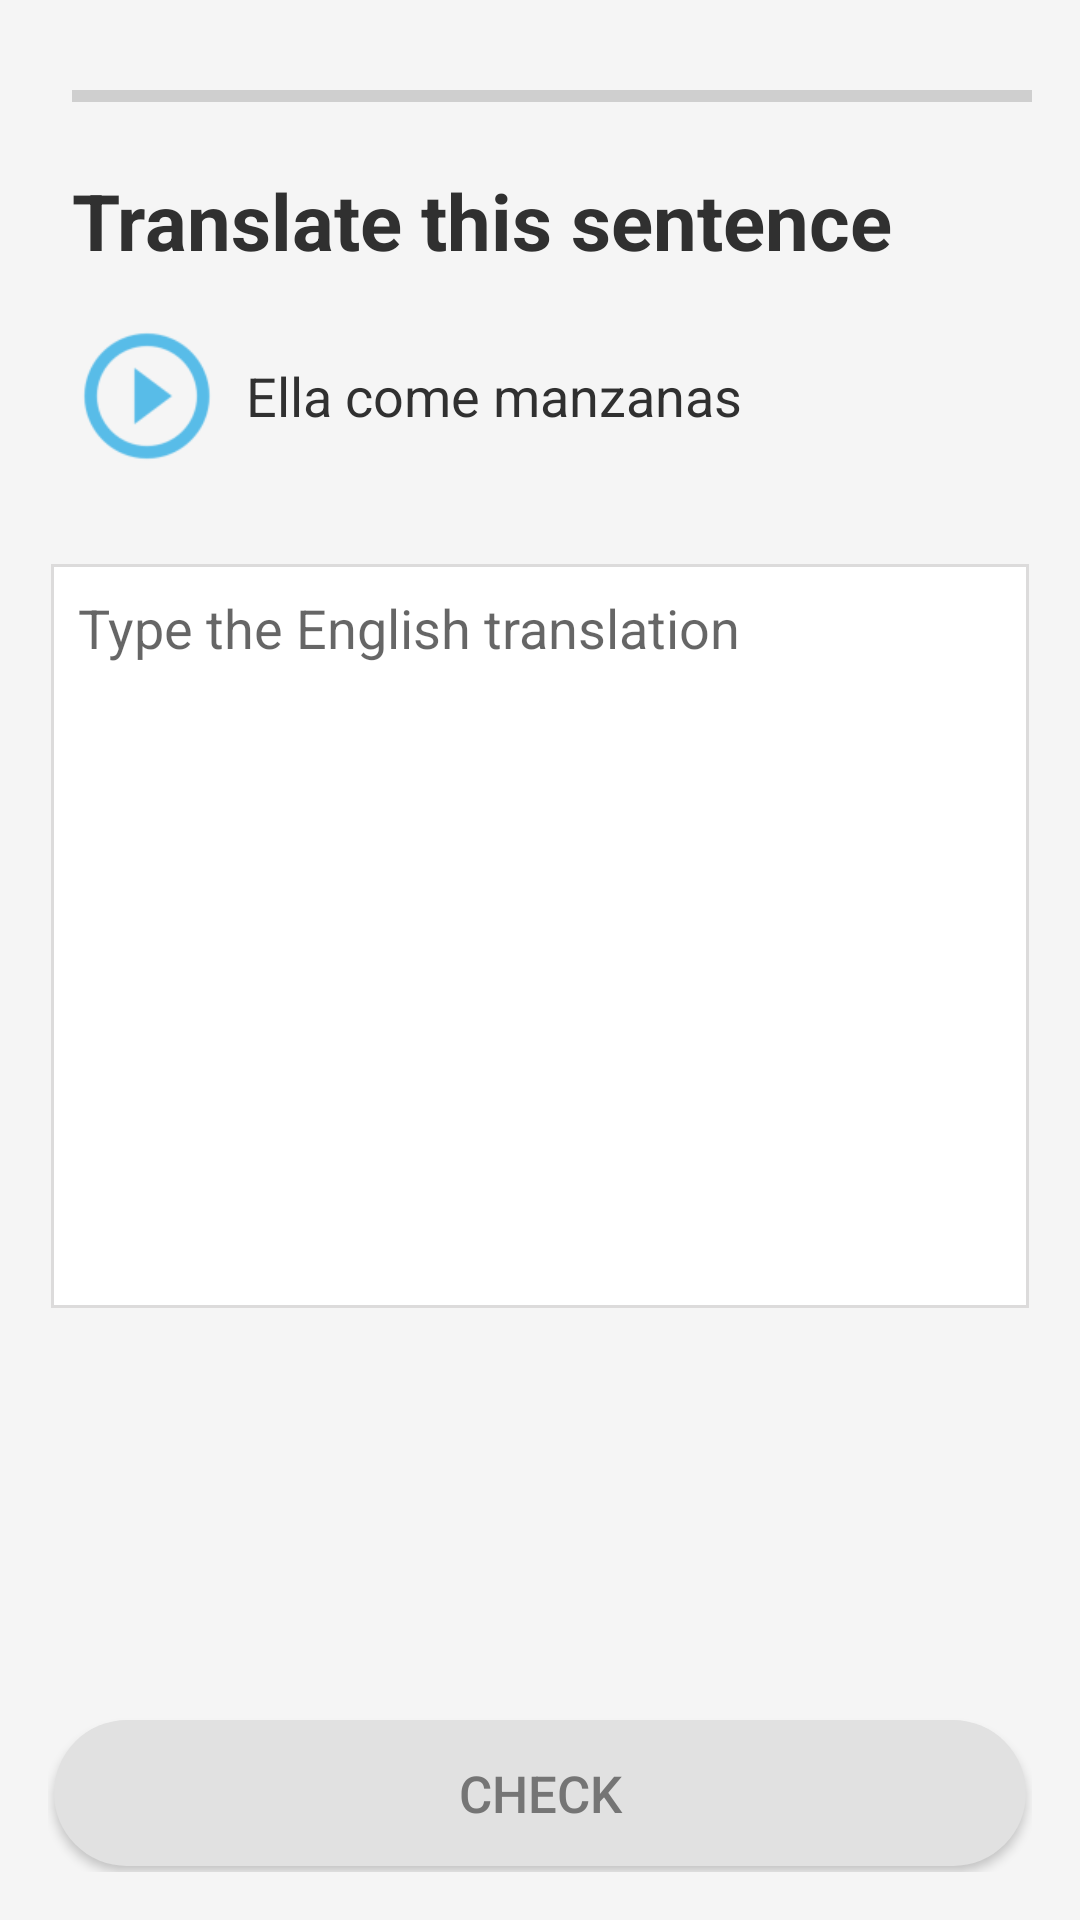

Where icons sit on this 1080 × 1920 app screen, as (x1, y1, x2, y2):
play voice: (84, 333, 210, 459)
